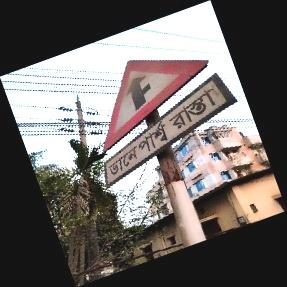Side-road-right: (99, 59, 230, 191)
